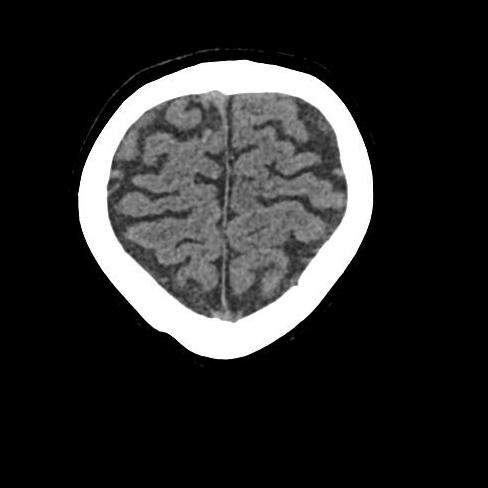Normal_Brain: (64, 23, 395, 406)
